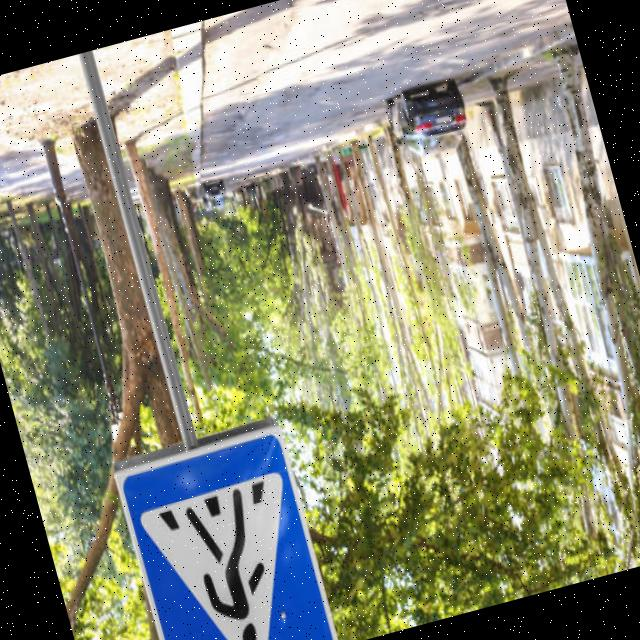crosswalk: (101, 413, 346, 640)
